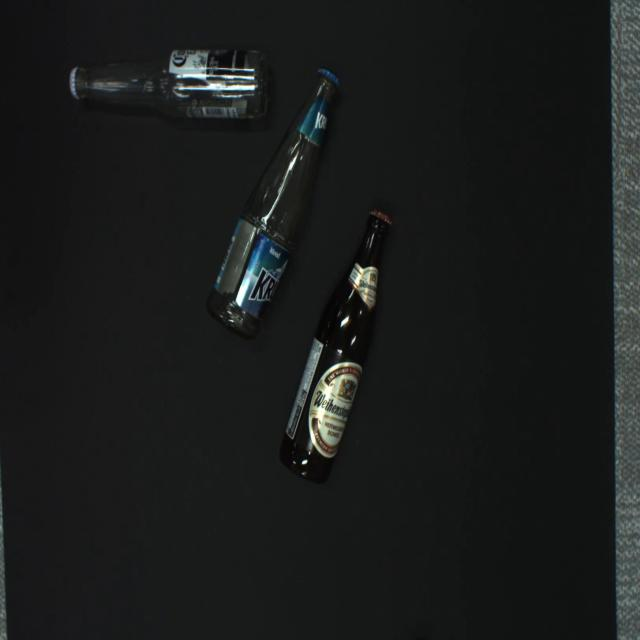beer-bottle: (207, 69, 339, 340), (279, 209, 392, 484), (69, 49, 269, 119)
